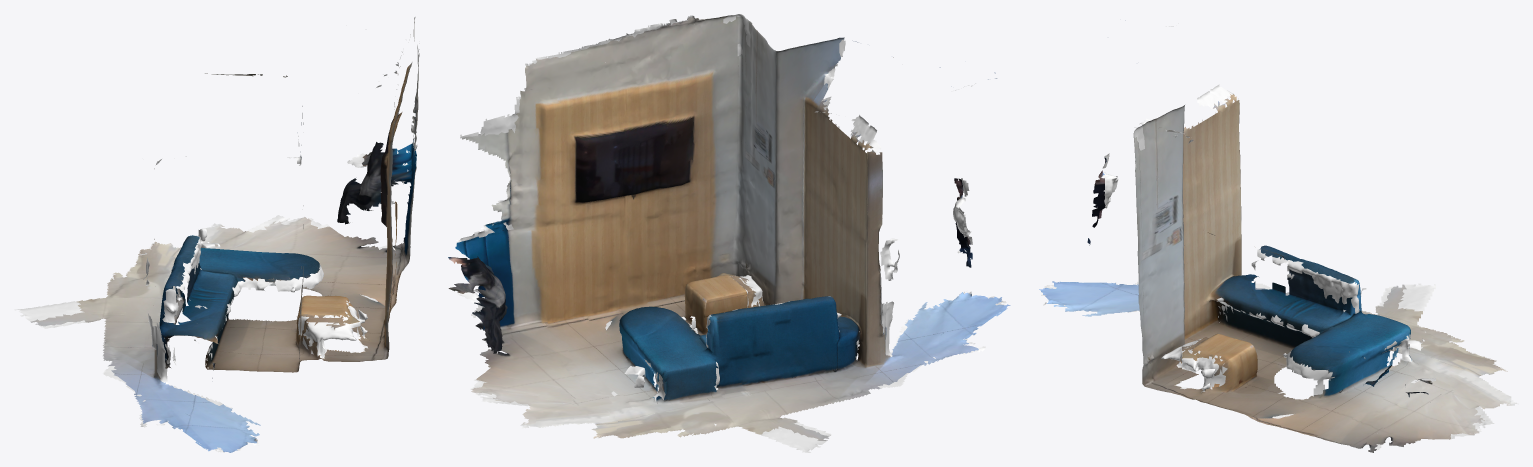
3 views of the same model, side by side, from view 1: azimuth 30°, elevation 25°; view 2: azimuth 150°, elevation 25°; view 3: azimuth 270°, elevation 25° (orthographic). The views are drawn at different scales.
Visible parts, largest first — view 1: texture_1, texture_2, texture_0, object 1; view 2: texture_0, texture_1, texture_2, object 1; view 3: texture_0, texture_1, texture_2, object 1.
Part boxes in pixels (x1,y1,x2,y2): texture_1: [30, 53, 419, 452]; texture_2: [76, 69, 416, 372]; texture_0: [154, 18, 418, 383]; object 1: [14, 17, 419, 452]; texture_0: [501, 15, 972, 405]; texture_1: [462, 37, 1010, 440]; texture_2: [448, 16, 880, 438]; object 1: [456, 14, 1006, 452]; texture_0: [1087, 94, 1429, 436]; texture_1: [1039, 20, 1463, 446]; texture_2: [1133, 133, 1514, 452]; object 1: [1041, 23, 1518, 450].
Size of the model in its own units: 4.89 by 3.19 by 5.1.
Materials: 4 (3 with a texture image).
